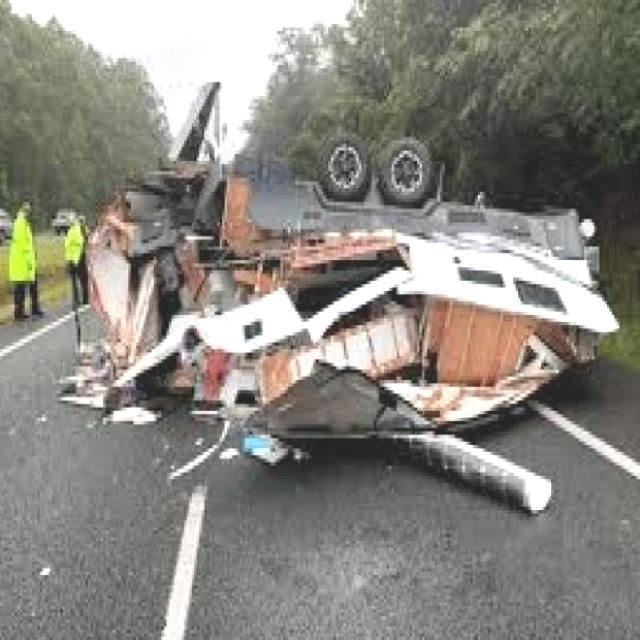accident: (69, 128, 624, 508)
